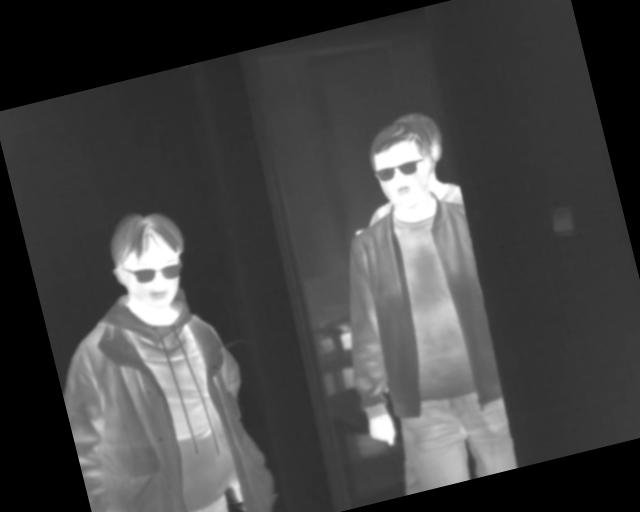face: (99, 202, 197, 320), (363, 116, 443, 216)
